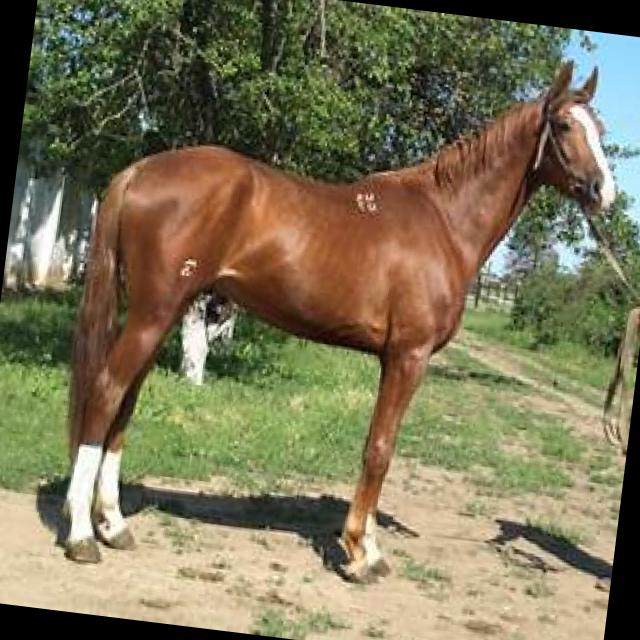horse: (46, 0, 633, 621)
